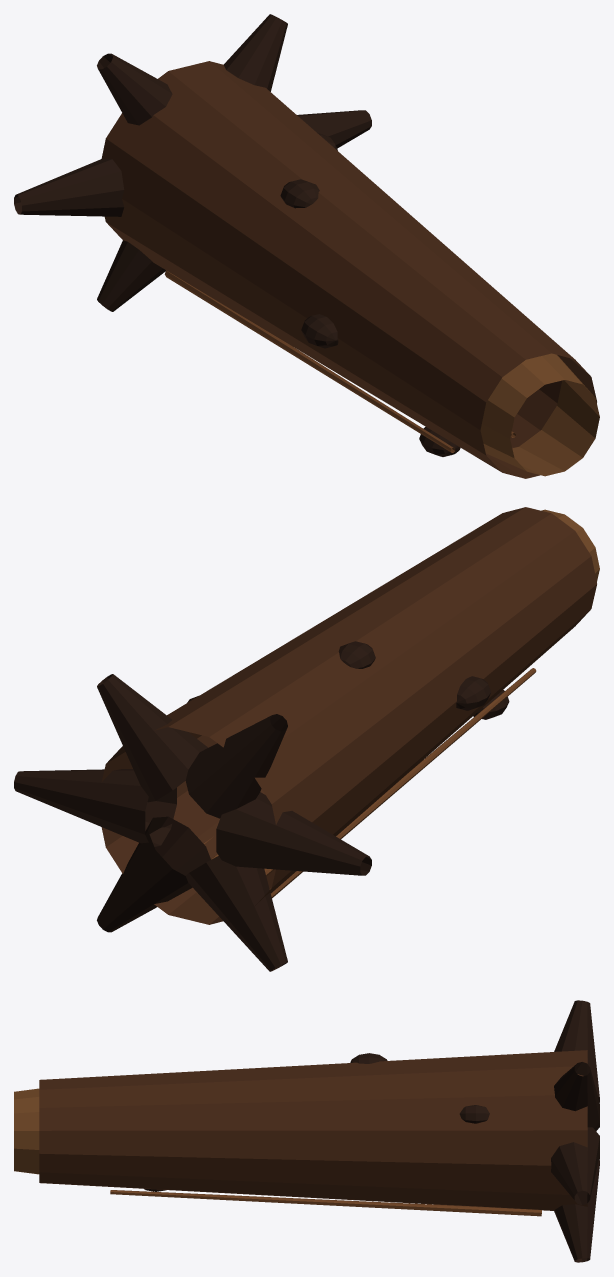
File: tree_trunk_thick.obj
3 renders of one model, top to bottom at view 1: azimuth 30°, elevation 25°; view 2: azimuth 150°, elevation 25°; view 3: azimuth 270°, elevation 25°, orthographic. The views are drawn at different scales.
Visible parts, largest first — view 1: TrunkCore, TrunkInner, Root3, Root2, Root1, Root4, BarkRidge0, Root0, Knot2, Knot1; view 2: TrunkCore, Root3, Root0, Root1, Root5, Root2, Root4, BarkRidge0, Knot2, Knot1, TrunkInner; view 3: TrunkCore, BarkRidge4, Root0, TrunkInner, Root5, Root1, Root2, Knot0.
Boxes of the visible parts, box(x1,y1,x2,y2) form: TrunkCore: box(101, 61, 596, 478); TrunkInner: box(480, 353, 599, 476); Root3: box(14, 159, 124, 216); Root2: box(97, 53, 172, 125); Root1: box(223, 14, 287, 91); Root4: box(97, 240, 165, 311); BarkRidge0: box(164, 270, 455, 452); Root0: box(297, 110, 371, 148); Knot2: box(301, 314, 338, 348); Knot1: box(280, 179, 319, 208); TrunkCore: box(101, 507, 596, 924); Root3: box(216, 792, 371, 875); Root0: box(14, 769, 176, 846); Root1: box(97, 674, 207, 802); Root5: box(97, 816, 210, 932); Root2: box(185, 714, 287, 818); Root4: box(186, 856, 287, 971); BarkRidge0: box(269, 668, 536, 898); Knot2: box(456, 676, 491, 710); Knot1: box(338, 641, 375, 668); TrunkInner: box(541, 509, 599, 581); TrunkCore: box(39, 1050, 587, 1210); BarkRidge4: box(110, 1190, 541, 1216); Root0: box(551, 1127, 599, 1205); TrunkInner: box(14, 1088, 39, 1174); Root5: box(554, 1160, 599, 1262); Root1: box(554, 1062, 599, 1128); Root2: box(554, 1000, 599, 1102); Knot0: box(459, 1105, 489, 1123).
Size of the model in its own units: 3.12 by 2.18 by 5.77.
